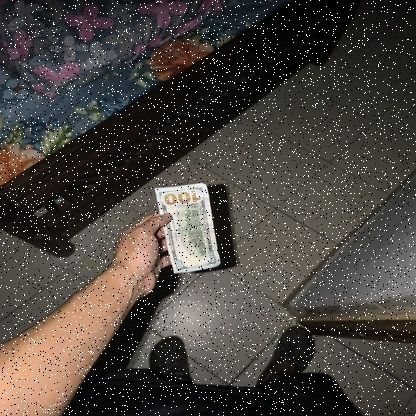one_hundred-back: (153, 182, 222, 274)
